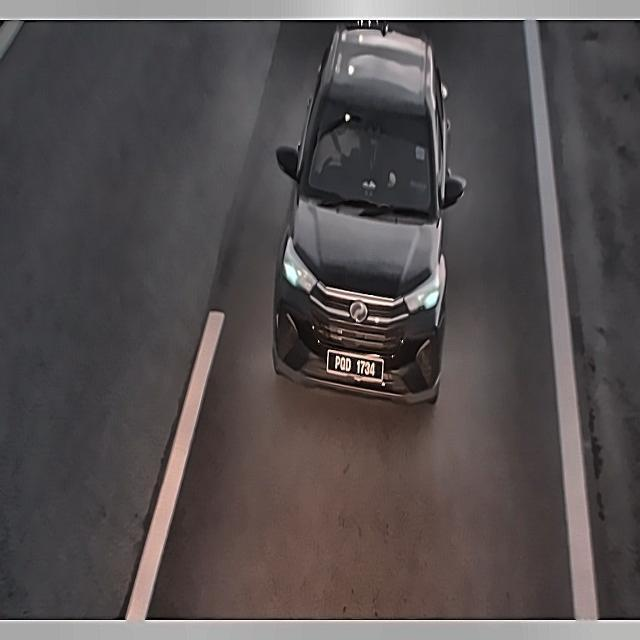car: (324, 345, 390, 388)
